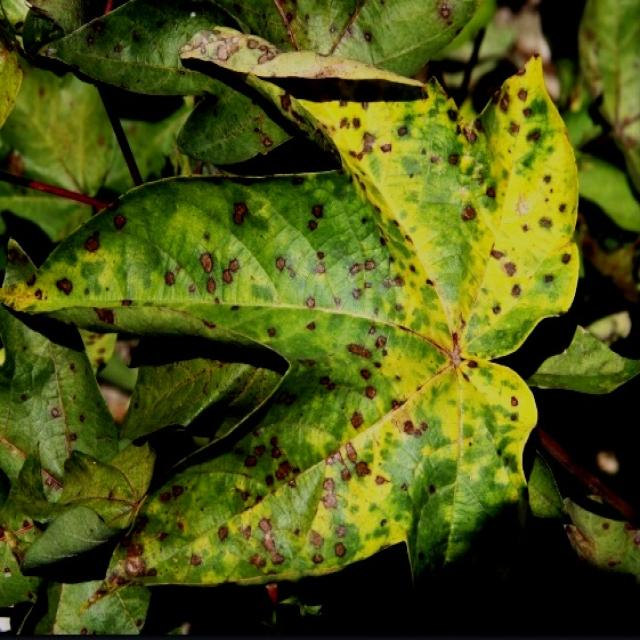Bacterial Blight: (188, 180, 472, 460)
